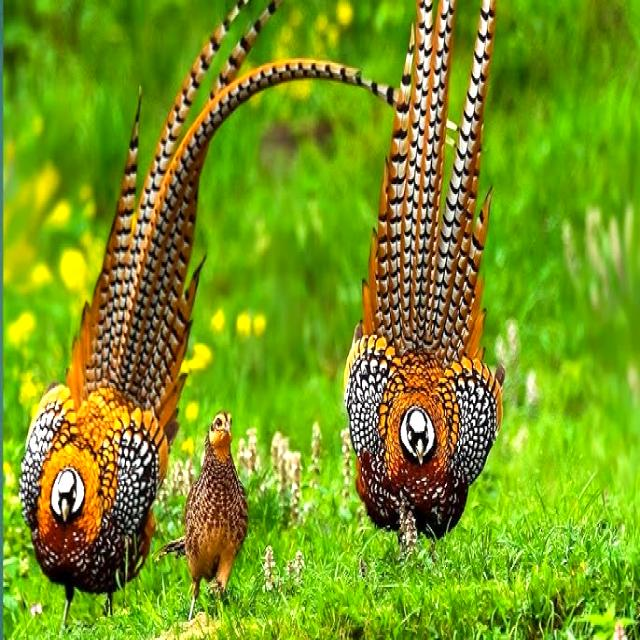Reeves-s Pheasant: (65, 0, 396, 444), (362, 0, 497, 368)
